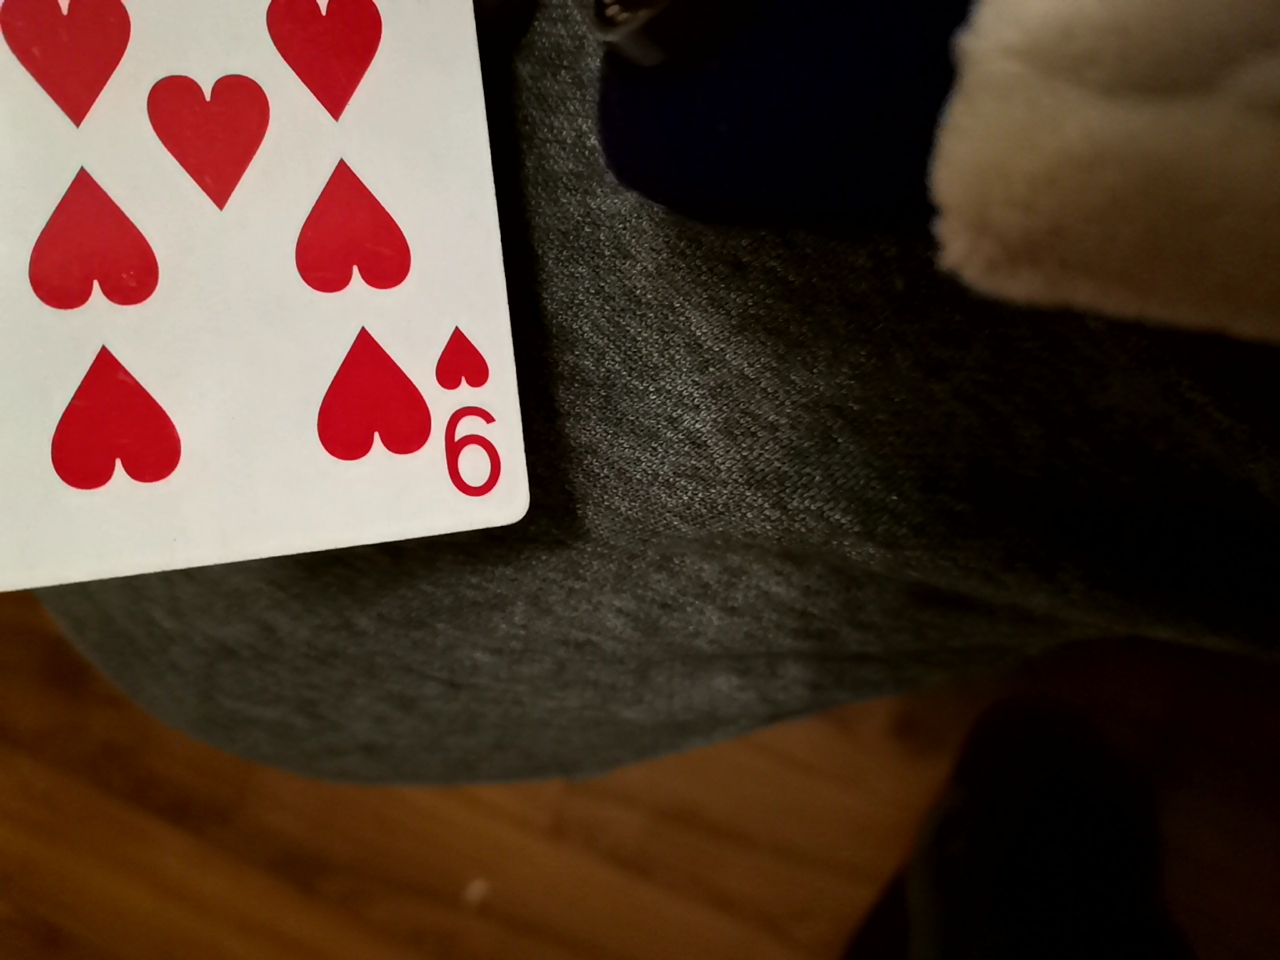hx 9: (0, 0, 532, 610)
